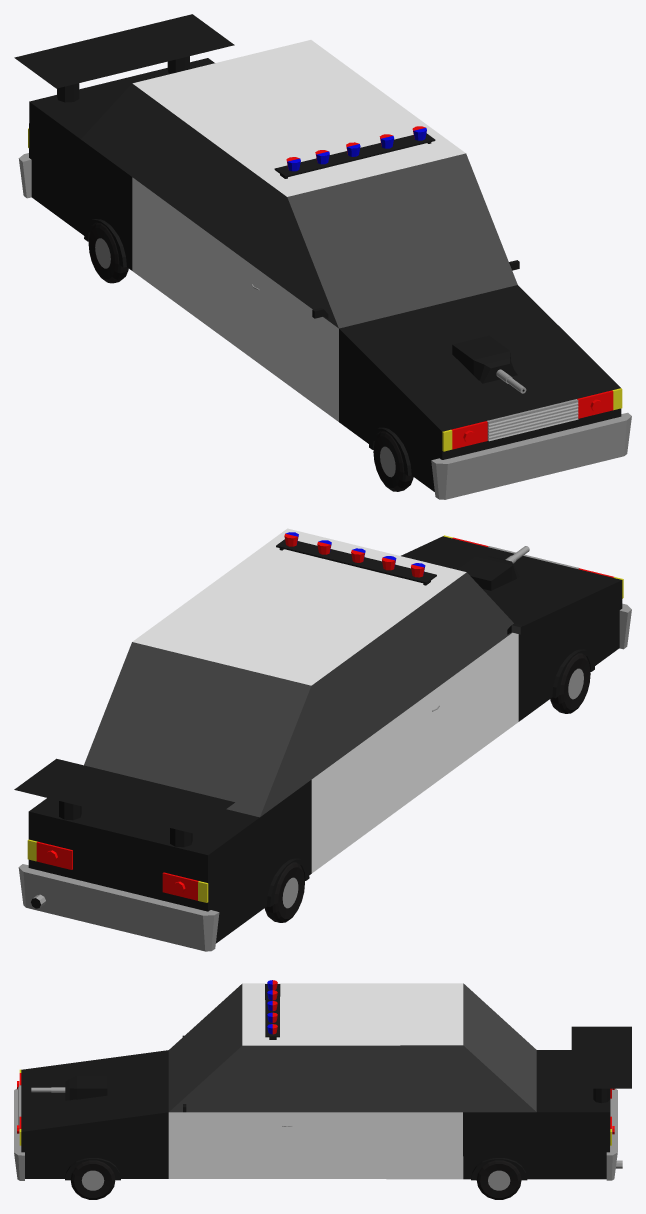
File: carro_policia_simples.fbx
3 views of the same model, one above another, from view 1: azimuth 30°, elevation 25°; view 2: azimuth 150°, elevation 25°; view 3: azimuth 270°, elevation 25° (orthographic). The views are drawn at different scales.
Visible parts, largest first — view 1: carro_inimigo_simples; view 2: carro_inimigo_simples; view 3: carro_inimigo_simples.
Part boxes in pixels (<box>): carro_inimigo_simples: <box>14,14,631,499</box>; carro_inimigo_simples: <box>14,528,631,951</box>; carro_inimigo_simples: <box>14,980,631,1199</box>.
Bounding box in the file's own units: 132 × 141 × 483.
